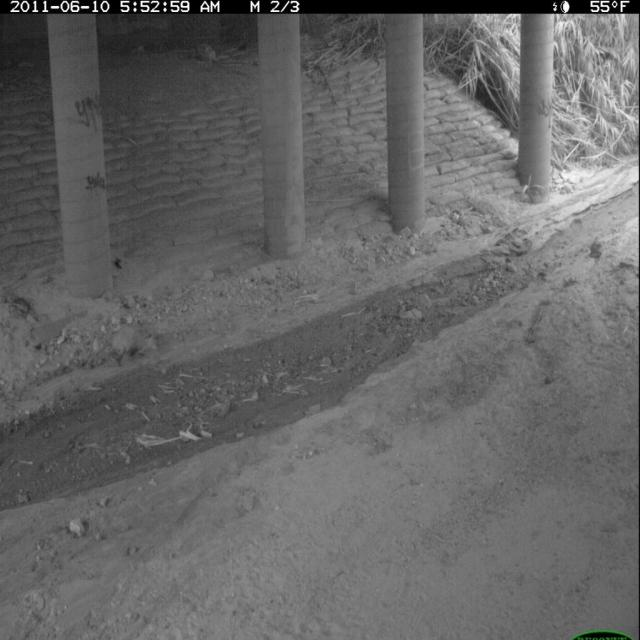opossum: (92, 321, 161, 372)
